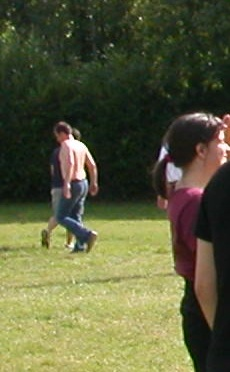person: (44, 121, 104, 254)
